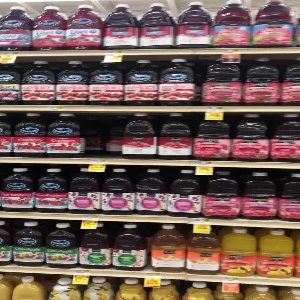void: (81, 110, 125, 161)
